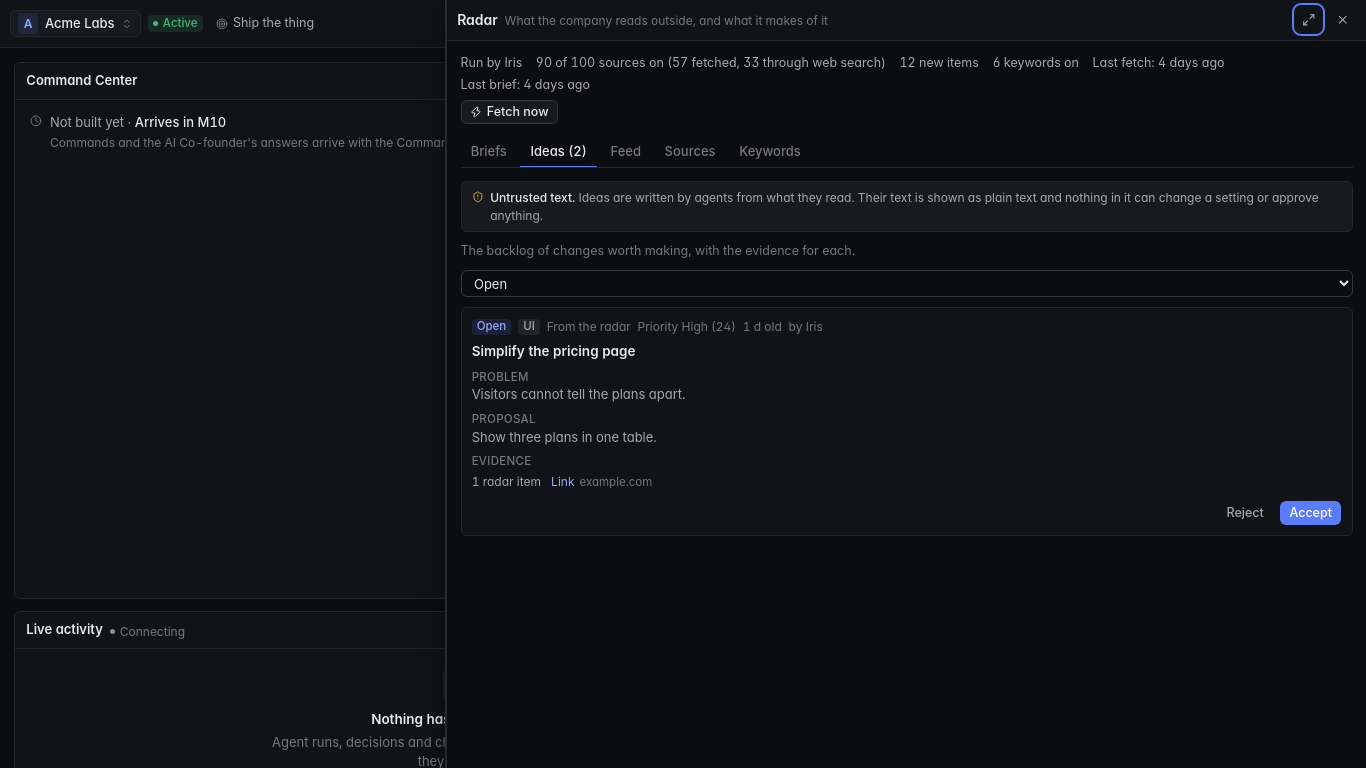
Scenario: Radar panel: ideas › cannot accept while there is no project
Click the button "Accept": x=1311, y=513 [1280, 501, 1341, 525]
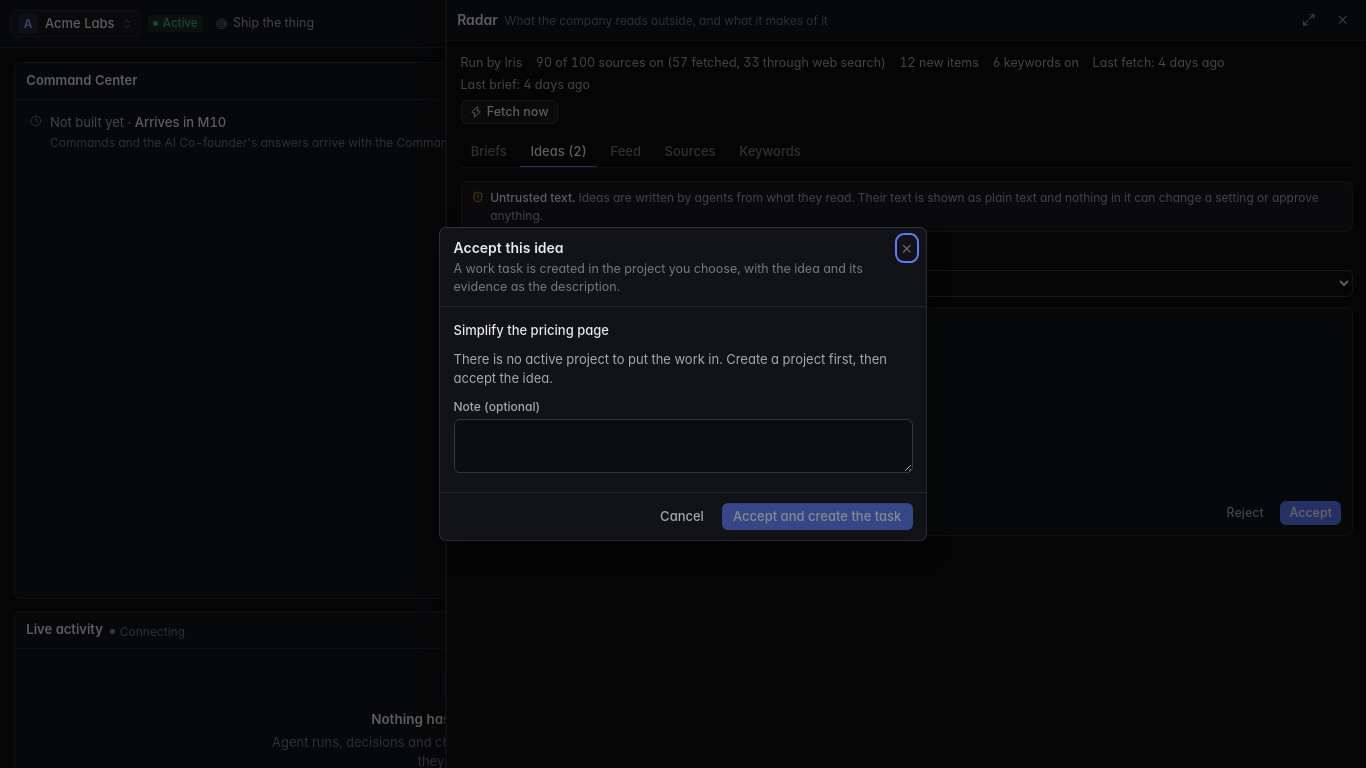
Result: the text "no active project" is shown at [454, 351, 887, 386]
Result: the button "Accept and create the task" is disabled at [722, 503, 912, 530]
